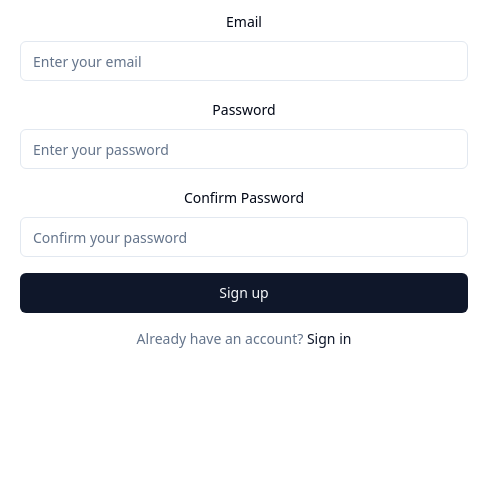
it: SignUpForm › Password Strength Indicator › shows weak strength for passwords with less than 3 requirements
Check: the field labelled "Email" is shown, box [20,41,468,81]
Type "Short" into the password field with placeholder "Enter your password" at (244, 149), box [20,129,468,169]
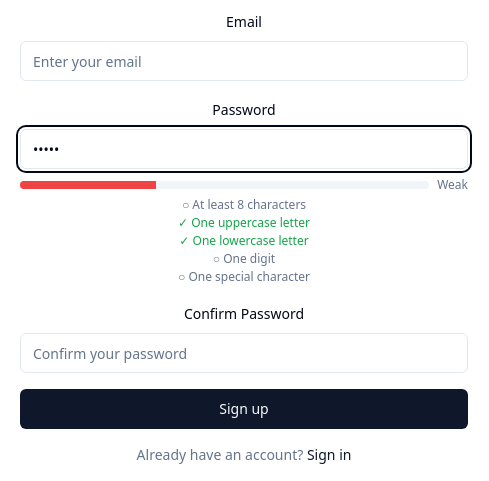
Check: the text "weak" is shown, box [437,177,468,193]
